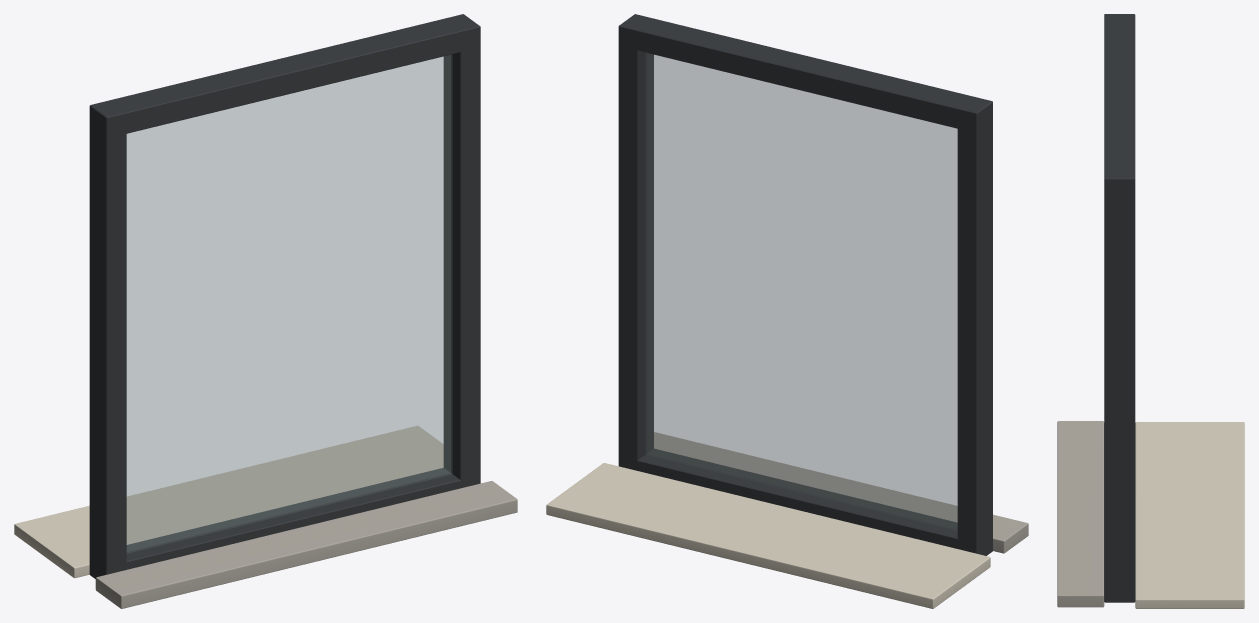
The model's file is prop_window_w100_h120.glb.
3 views of the same model, side by side, from view 1: azimuth 30°, elevation 25°; view 2: azimuth 150°, elevation 25°; view 3: azimuth 270°, elevation 25° (orthographic). The views are drawn at different scales.
Visible parts, largest first — view 1: Glass, Frame; view 2: Glass, Frame; view 3: Frame.
Boxes of the visible parts, x1,y1,x2,y2 form: Glass: [127, 55, 452, 553]; Frame: [14, 14, 517, 608]; Glass: [645, 53, 957, 530]; Frame: [546, 14, 1028, 608]; Frame: [1057, 14, 1244, 608].
Size of the model in its own units: 1.08 by 1.2 by 0.48.
